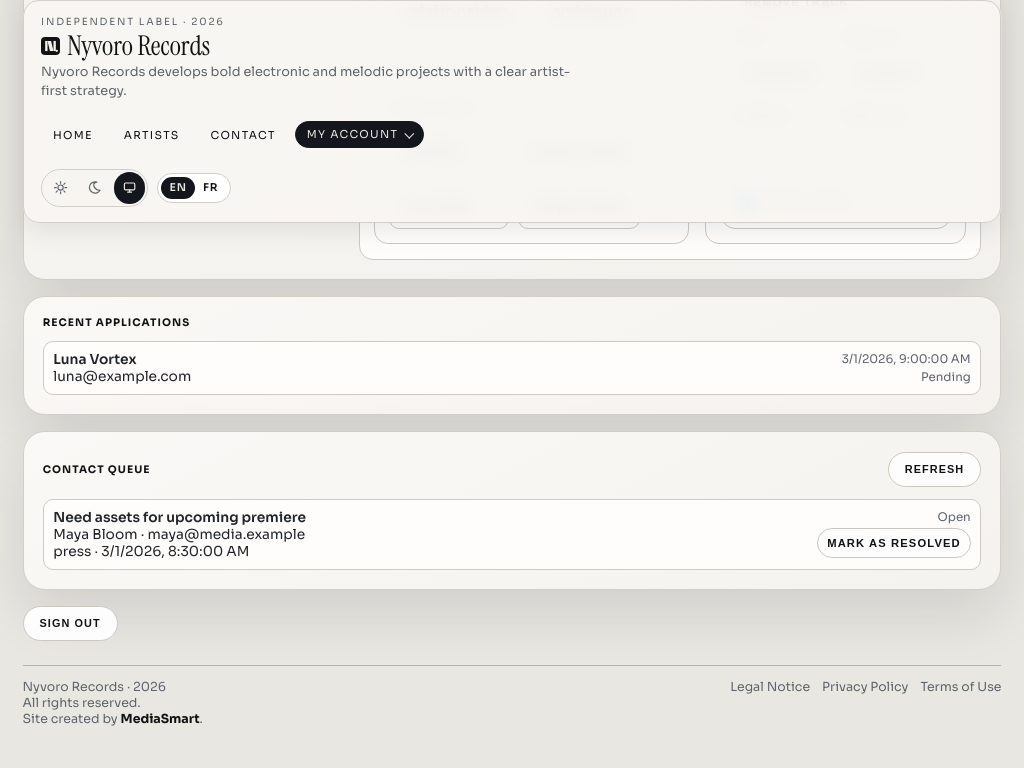
Test: admin dashboard page › marks a contact message as resolved from the queue
(page scrolled)
Expected: the text "Need assets for upcoming premiere" is shown, [53,509,306,526]
Click the button "Mark as resolved" at point(894, 543), box [817,528,971,558]
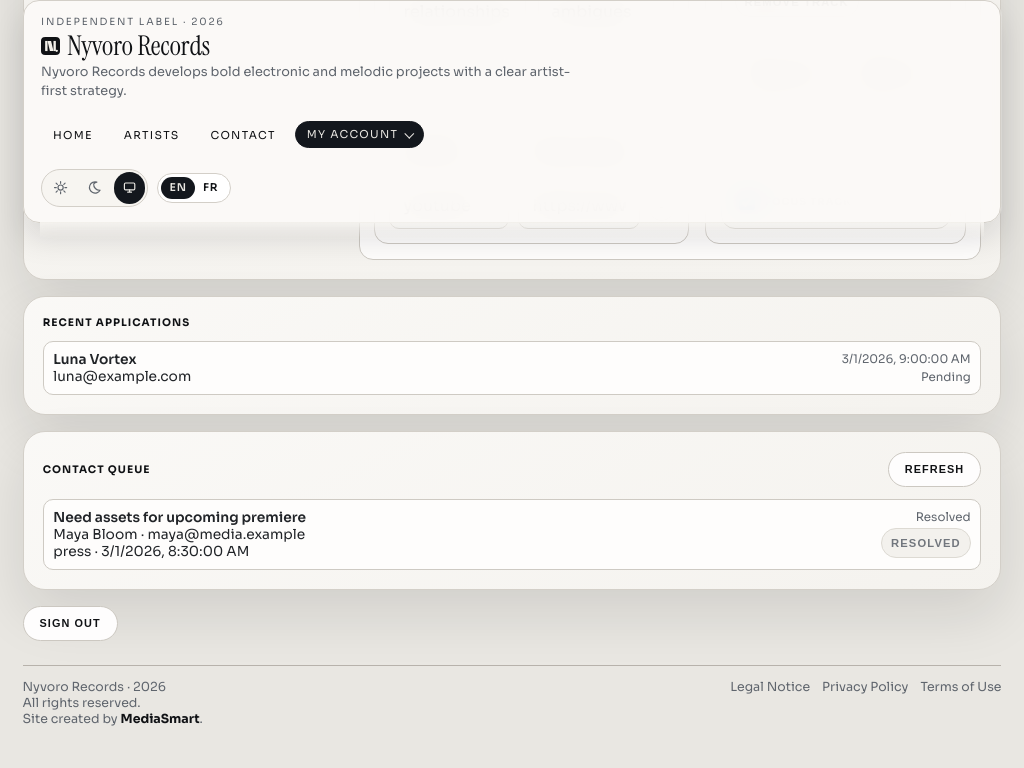
Expected: the button "Resolved" is disabled, [881,528,971,558]
